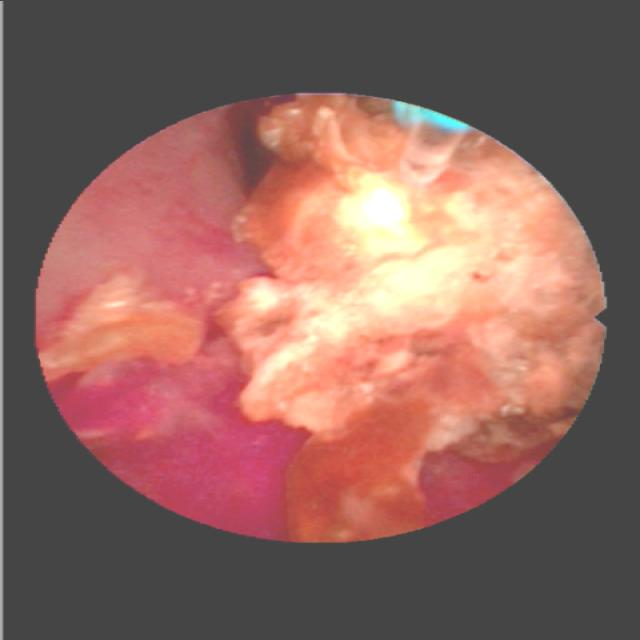fiber: (394, 105, 467, 128)
stone: (217, 95, 600, 537), (45, 260, 206, 376)
tissue: (48, 109, 249, 300), (66, 359, 275, 525)
